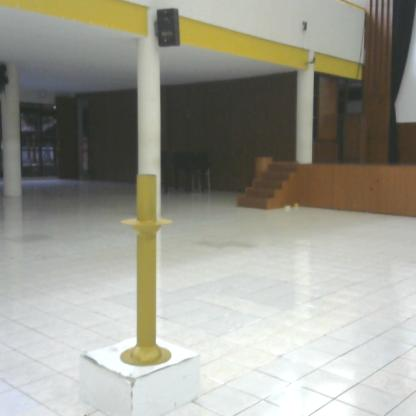pole: (117, 169, 181, 372)
